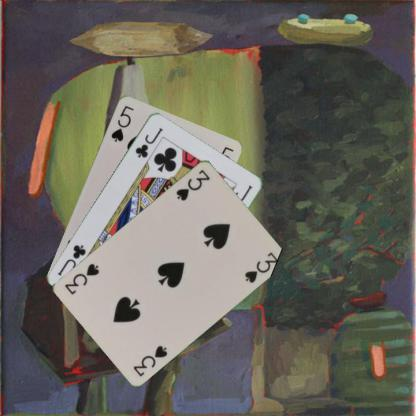3s: (130, 342, 169, 378), (174, 166, 212, 202)
5s: (108, 102, 135, 144)
Jc: (132, 125, 164, 159)
